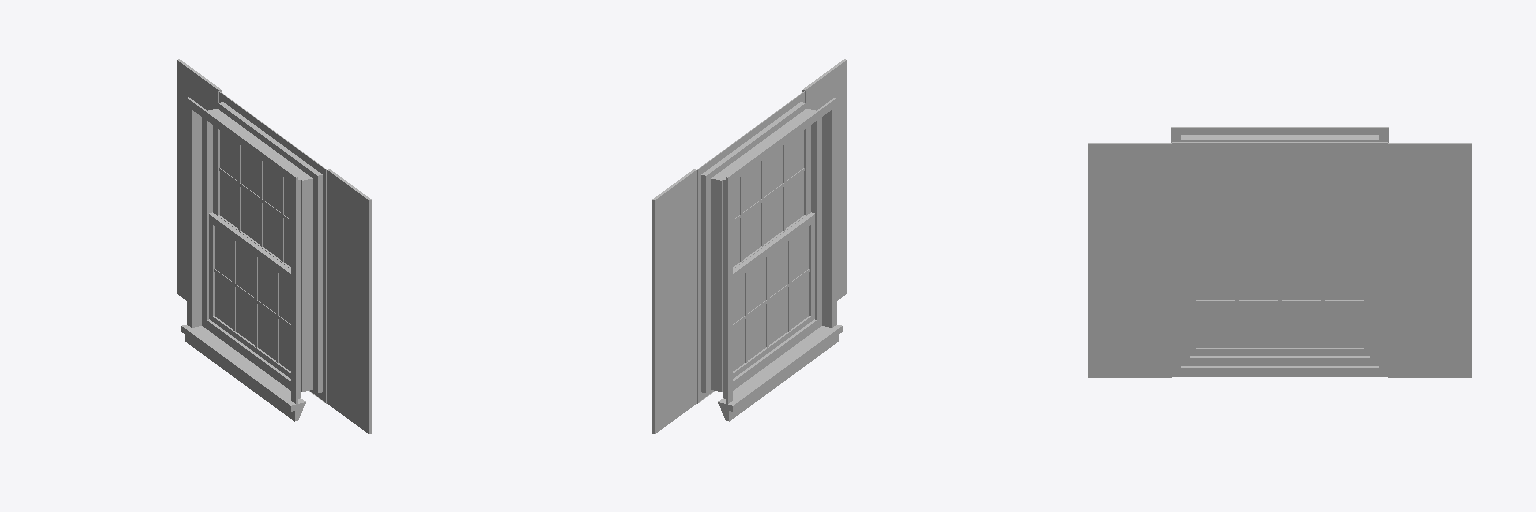
File: narrow_window.obj
3 views of the same model, side by side, from view 1: azimuth 30°, elevation 25°; view 2: azimuth 150°, elevation 25°; view 3: azimuth 270°, elevation 25° (orthographic).
Visible parts, largest first — view 1: SM_Window_narrow, SM_Window_narrow_Leaf_glass, SM_Window_narrow_glass, SM_Window_narrow_Leaf; view 2: SM_Window_narrow, SM_Window_narrow_Leaf_glass, SM_Window_narrow_glass, SM_Window_narrow_Leaf; view 3: SM_Window_narrow, SM_Window_narrow_glass, SM_Window_narrow_Leaf_glass, SM_Window_narrow_Leaf.
Boxes of the visible parts, x1,y1,x2,y2 form: SM_Window_narrow: [177, 59, 371, 433]; SM_Window_narrow_Leaf_glass: [215, 227, 290, 370]; SM_Window_narrow_glass: [220, 131, 290, 266]; SM_Window_narrow_Leaf: [209, 212, 290, 378]; SM_Window_narrow: [652, 59, 846, 433]; SM_Window_narrow_Leaf_glass: [733, 227, 808, 370]; SM_Window_narrow_glass: [733, 131, 803, 266]; SM_Window_narrow_Leaf: [733, 212, 814, 378]; SM_Window_narrow: [1088, 127, 1471, 377]; SM_Window_narrow_glass: [1196, 160, 1363, 250]; SM_Window_narrow_Leaf_glass: [1196, 259, 1363, 347]; SM_Window_narrow_Leaf: [1190, 259, 1369, 355].
Size of the model in its own units: 0.2738 by 1.6 by 2.29.